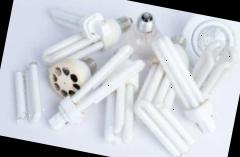lightbulb: (25, 0, 240, 157), (38, 0, 134, 80), (175, 12, 240, 76), (43, 51, 98, 102)
